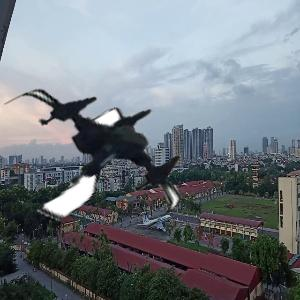drone: (10, 64, 192, 246)
